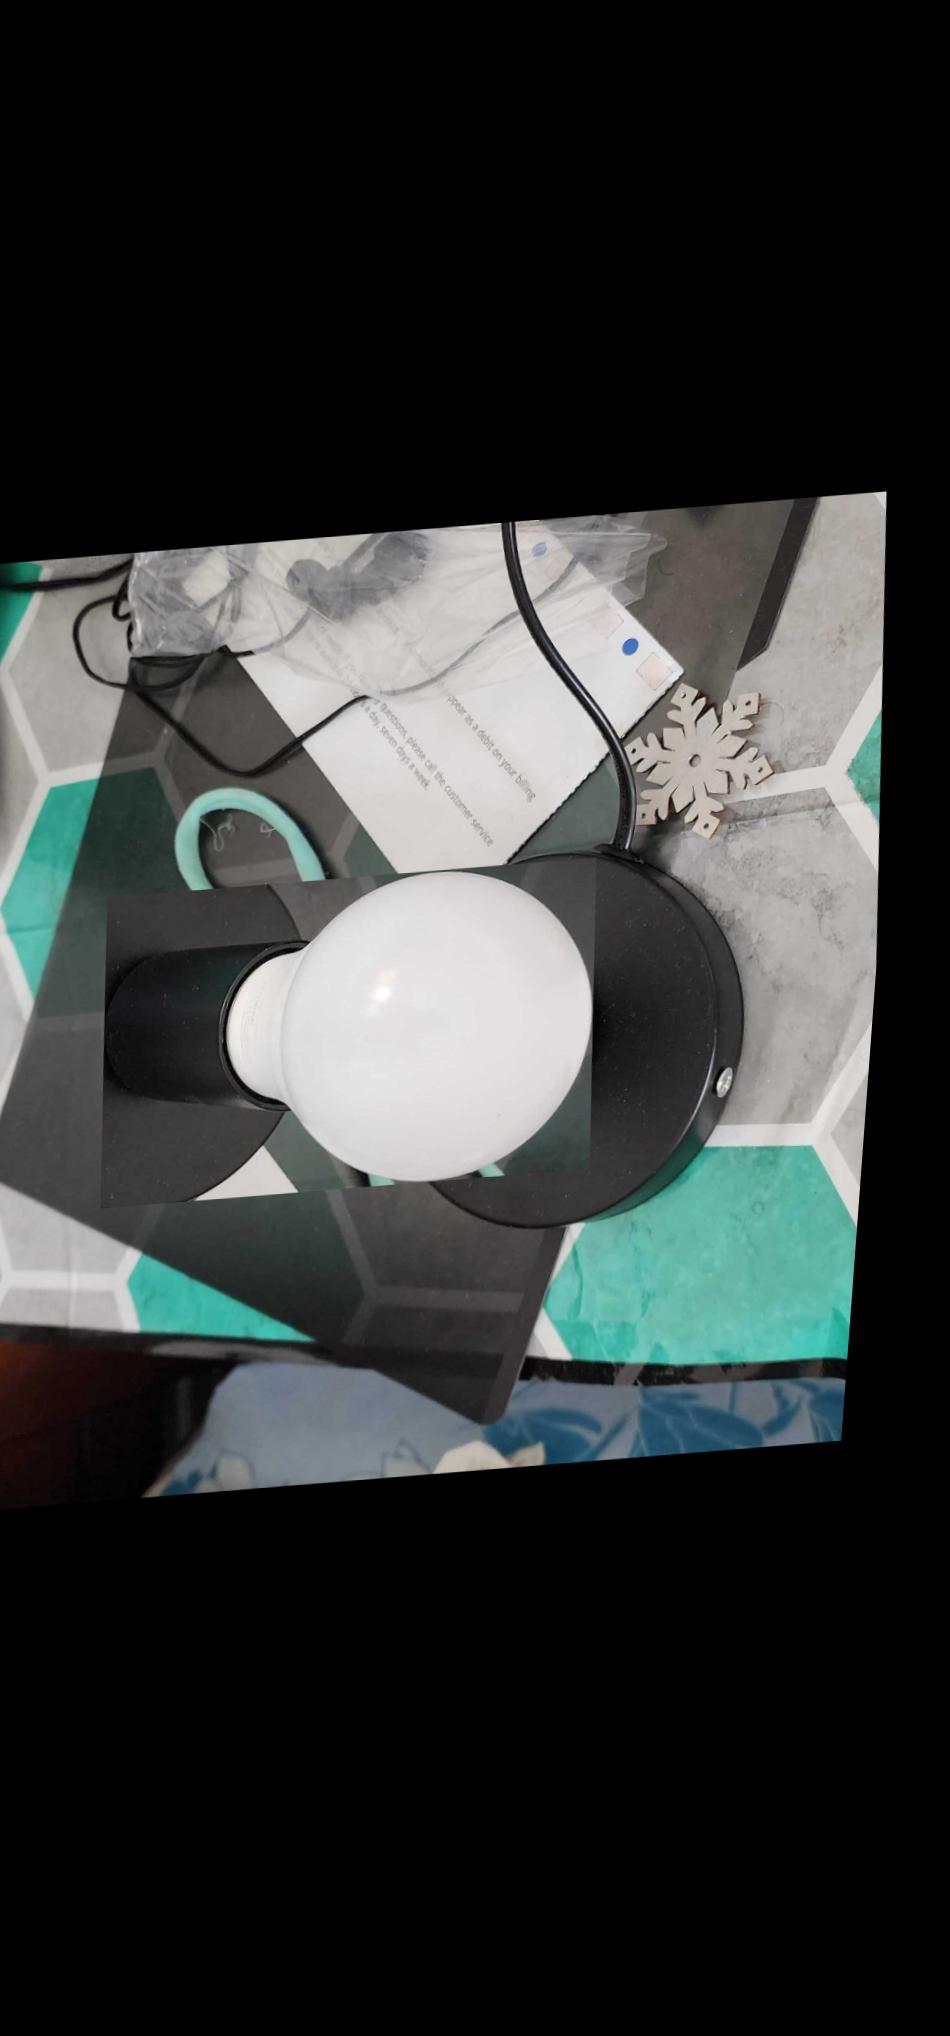Fan: (101, 861, 626, 1210)
